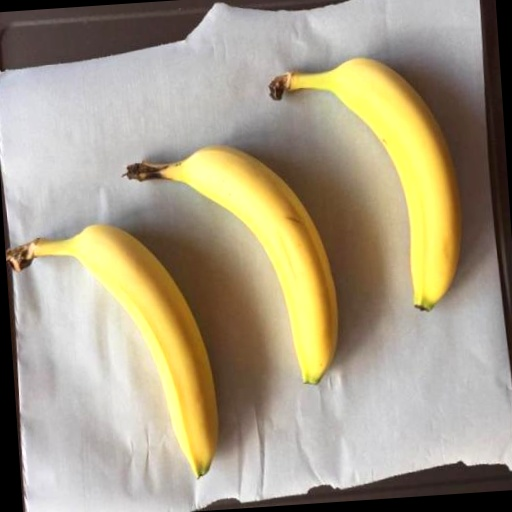fruit: (6, 225, 217, 477), (126, 146, 337, 383), (270, 59, 460, 311)
